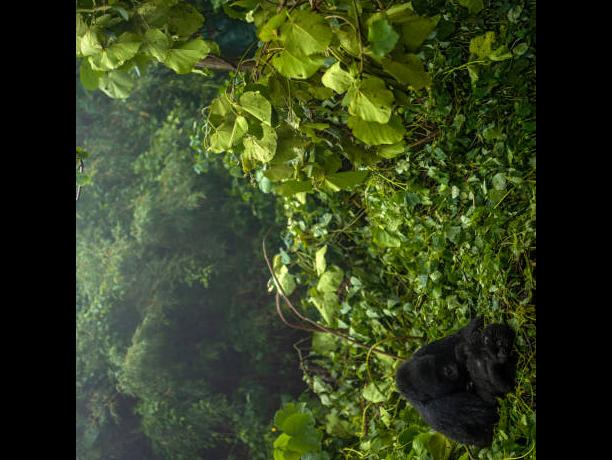goriile_montagne: (384, 320, 501, 442)
